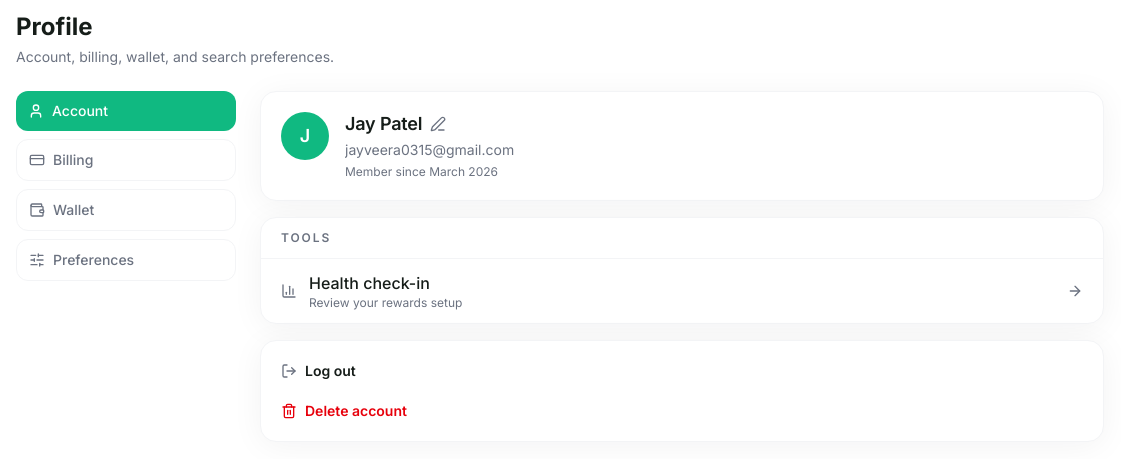
Test case: settings page subscription tab › keeps access visible when cancellation is already scheduled at period end
Click the button "Billing" at {"x": 126, "y": 160}, box [16,139,236,181]
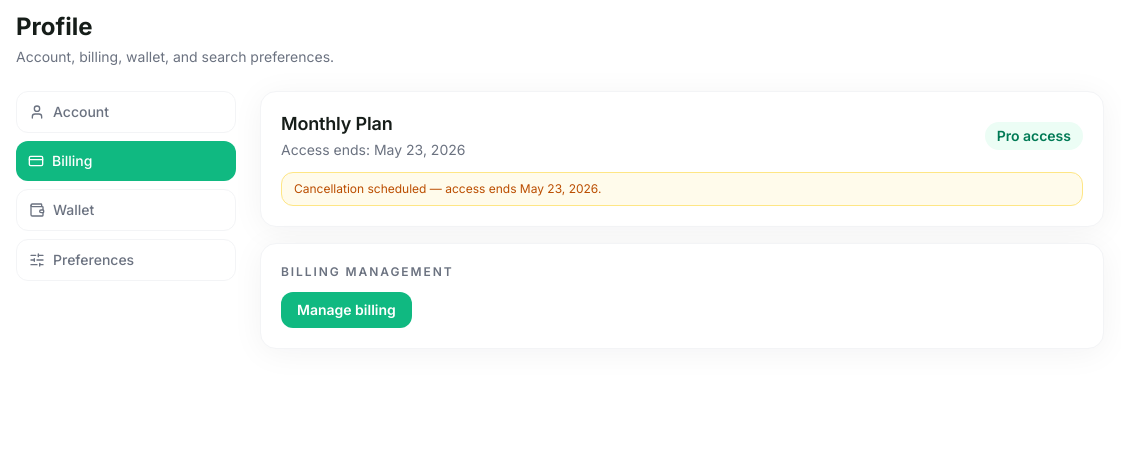
Now the text "Access ends" is shown, box [281,141,366,158]
Now the text "Cancellation scheduled" is shown, box [294,181,520,196]
